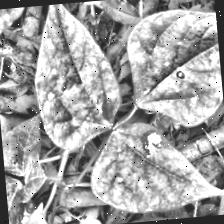Bean Rust: (31, 0, 127, 154), (87, 115, 224, 216), (124, 8, 224, 129)
